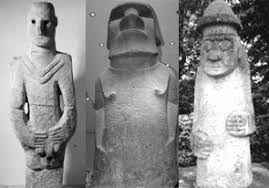Stone Statue: (183, 2, 260, 188)
